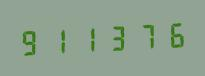nine: (17, 24, 44, 58)
one: (45, 22, 72, 57), (74, 21, 101, 56)
seven: (130, 18, 157, 53)
six: (158, 17, 185, 51)
three: (102, 20, 129, 54)
